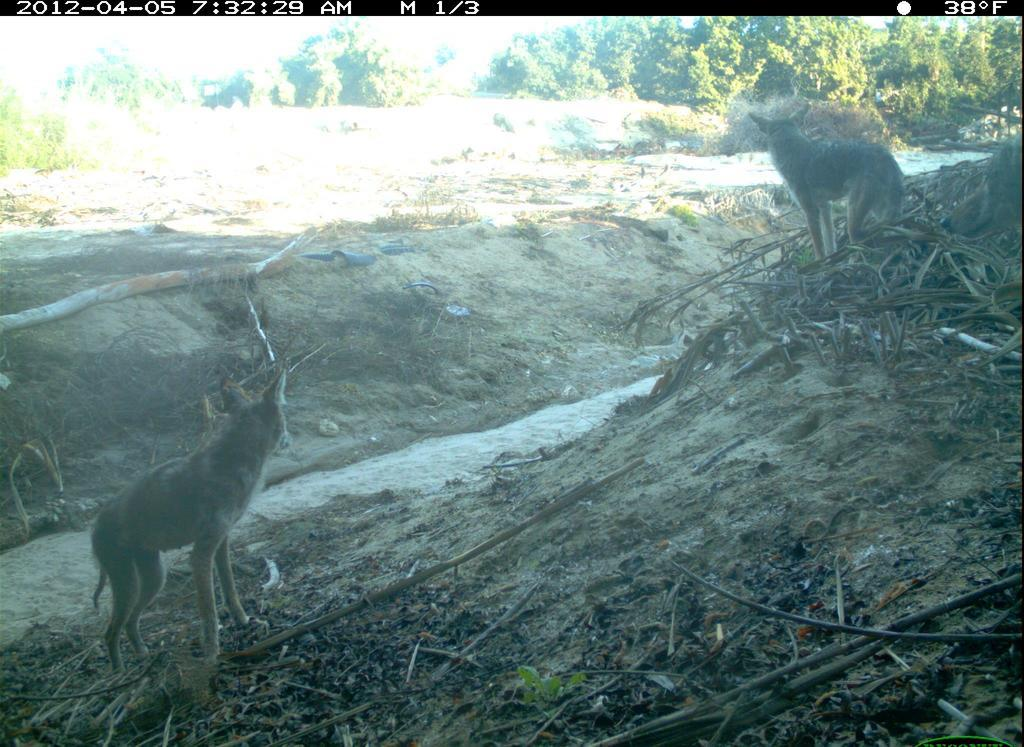coyote: (79, 374, 315, 679), (745, 99, 929, 271)
